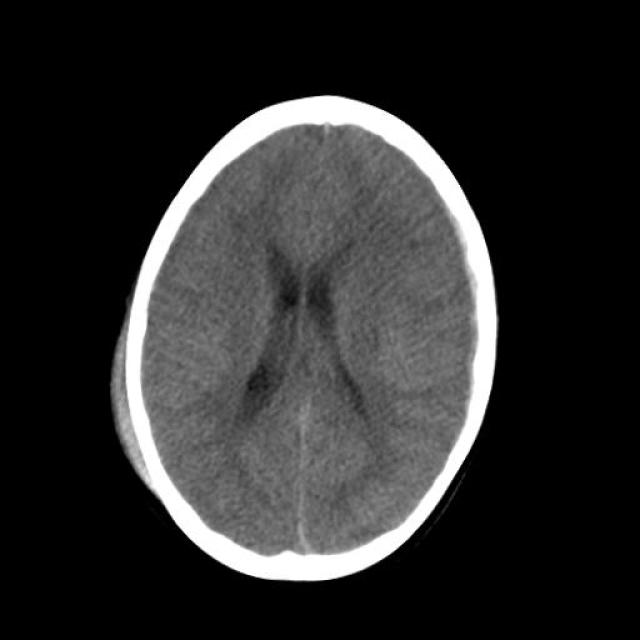Subdural: (434, 202, 510, 444)
